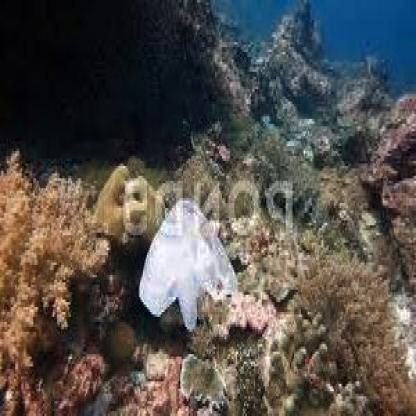pbag: (138, 195, 238, 336)
